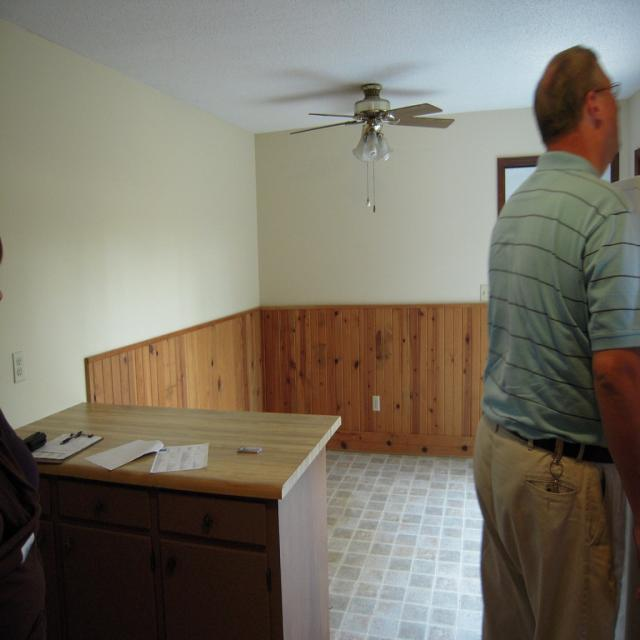bulb_off: (365, 145, 380, 162)
fan_off: (294, 86, 462, 139)
